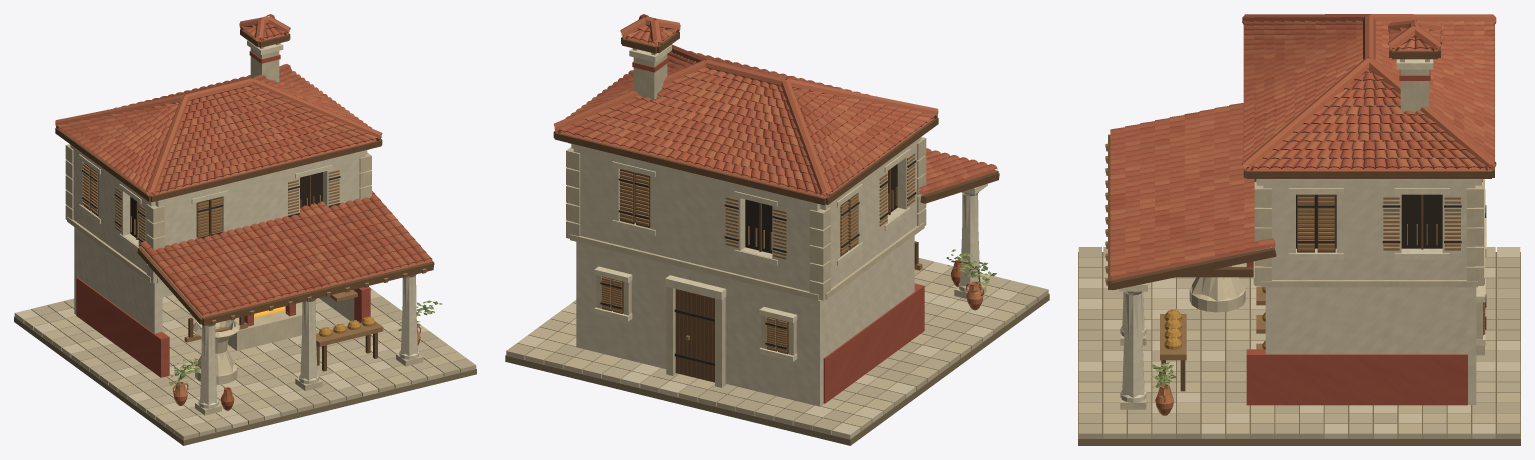
File: baeckerei.glb
The picture shows the model from 3 angles, left to right: view 1: azimuth 30°, elevation 25°; view 2: azimuth 150°, elevation 25°; view 3: azimuth 270°, elevation 25°; orthographic projection. The views are drawn at different scales.
Visible parts, largest first — view 1: Tile_0.001, Limewash.002, Tile_1.001, Limewash.001, Paving_3.001, Paving_1.001, Paving_0.001, Oak.001, Tile_5.001, Paving_2.001, Travertine.001, Tile_2.001 (+14 smaller); view 2: Limewash.001, Limewash.002, Tile_0.001, Tile_1.001, Travertine.002, Travertine.001, Oak.001, Paving_1.001, Paving_3.001, Paving_0.001, Oak_edge.001, Tile_5.001 (+16 smaller); view 3: Limewash.001, Tile_0.001, Tile_1.001, Paving_1.001, Pompeian_red.001, Paving_3.001, Limewash.002, Tile_5.001, Paving_0.001, Paving_2.001, Oak.001, Travertine.001 (+17 smaller).
Boxes of the visible parts, <box> form: Tile_0.001: <box>60,24,424,315</box>; Limewash.002: <box>70,144,367,333</box>; Tile_1.001: <box>55,14,432,300</box>; Limewash.001: <box>74,150,419,408</box>; Paving_3.001: <box>52,287,447,436</box>; Paving_1.001: <box>31,296,476,440</box>; Paving_0.001: <box>24,295,466,426</box>; Oak.001: <box>55,29,434,388</box>; Tile_5.001: <box>68,28,408,303</box>; Paving_2.001: <box>14,290,428,428</box>; Travertine.001: <box>66,43,422,414</box>; Tile_2.001: <box>59,27,431,317</box>; Limewash.001: <box>572,138,981,405</box>; Limewash.002: <box>571,137,920,406</box>; Tile_0.001: <box>554,26,997,196</box>; Tile_1.001: <box>554,14,967,197</box>; Travertine.002: <box>566,48,986,387</box>; Travertine.001: <box>566,48,983,387</box>; Oak.001: <box>553,31,999,381</box>; Paving_1.001: <box>506,258,1048,434</box>; Paving_3.001: <box>539,276,1029,420</box>; Paving_0.001: <box>525,270,1026,430</box>; Oak_edge.001: <box>601,153,977,353</box>; Tile_5.001: <box>581,19,970,193</box>; Limewash.001: <box>1120,179,1480,403</box>; Tile_0.001: <box>1110,20,1494,270</box>; Tile_1.001: <box>1110,14,1496,277</box>; Paving_1.001: <box>1078,247,1520,438</box>; Pompeian_red.001: <box>1247,77,1466,403</box>; Paving_3.001: <box>1078,257,1520,438</box>; Limewash.002: <box>1256,179,1481,404</box>; Tile_5.001: <box>1110,25,1494,261</box>; Paving_0.001: <box>1078,247,1520,438</box>; Paving_2.001: <box>1078,247,1520,438</box>; Oak.001: <box>1108,28,1494,391</box>; Travertine.001: <box>1121,59,1484,406</box>.
Bounding box in the file's own units: 9.2 × 8.49 × 9.2.
Materials: 29 (8 with a texture image).
